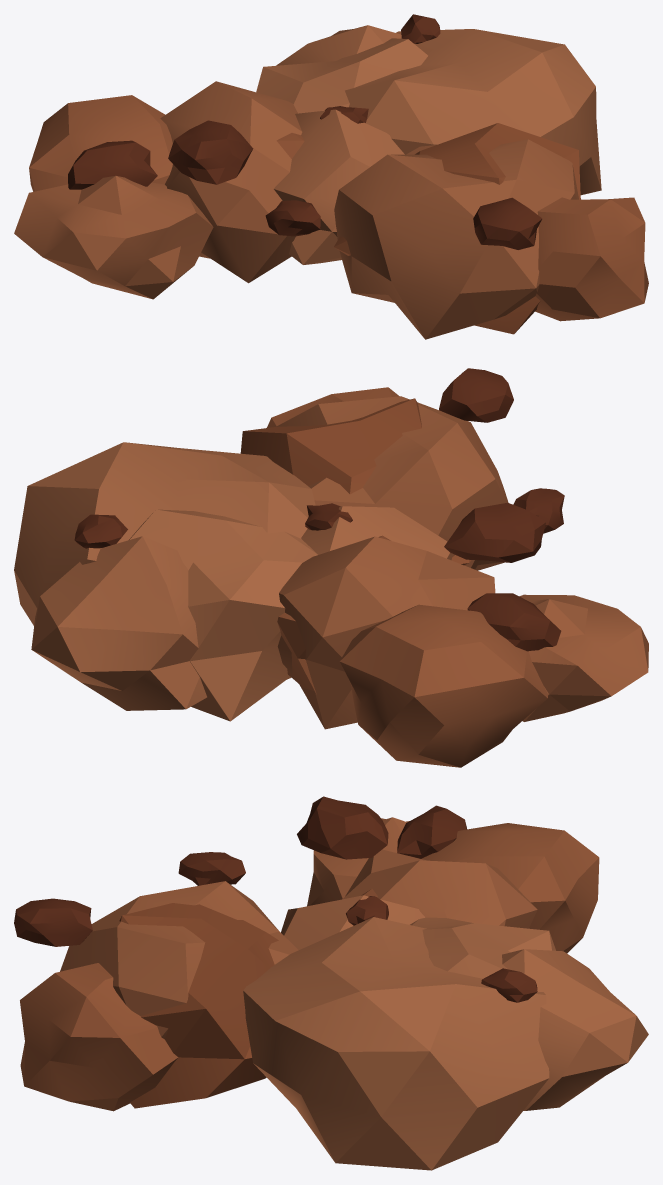
Rendered from dep_iron_2.glb.
3 views of the same model, one above another, from view 1: azimuth 30°, elevation 25°; view 2: azimuth 150°, elevation 25°; view 3: azimuth 270°, elevation 25° (orthographic). The views are drawn at different scales.
Visible parts, largest first — view 1: rock_iron; view 2: rock_iron; view 3: rock_iron.
Part boxes in pixels (bbox=[...]): rock_iron: bbox=[14, 14, 648, 339]; rock_iron: bbox=[14, 368, 648, 767]; rock_iron: bbox=[14, 796, 648, 1170].
Size of the model in its own units: 10.08 by 2.63 by 9.49.
